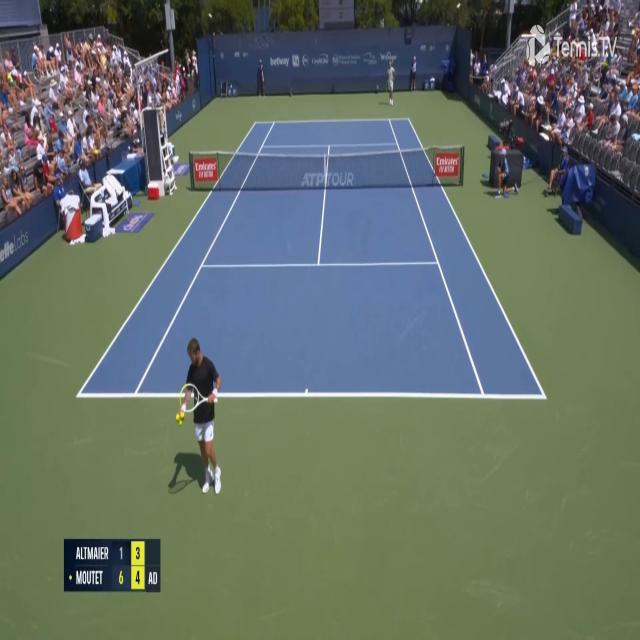tennis-player: (166, 298, 227, 500), (384, 59, 396, 106)
